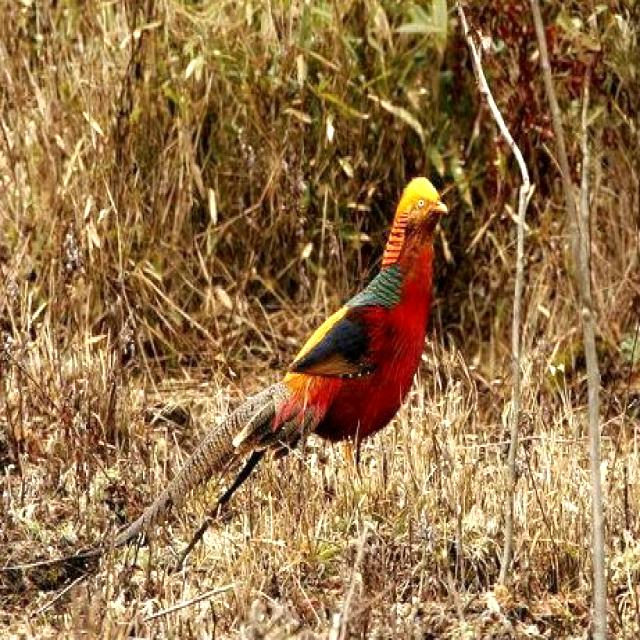Chrysolophus pictus feather: (169, 383, 287, 498)
